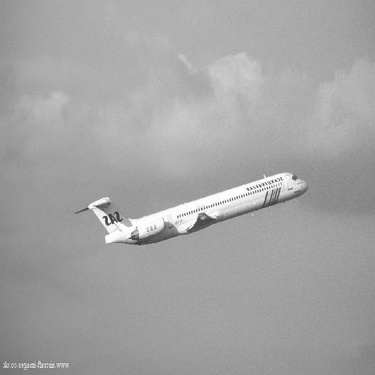airplane: (68, 165, 311, 252)
